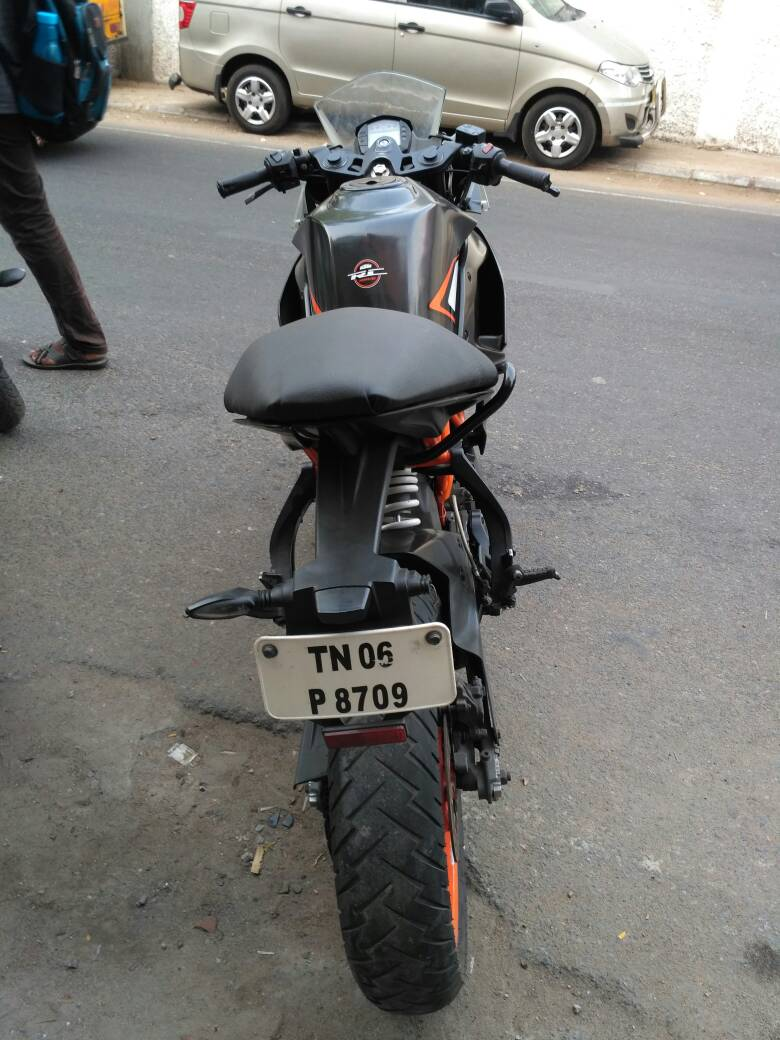doublelinenumberplate: (253, 623, 458, 721)
